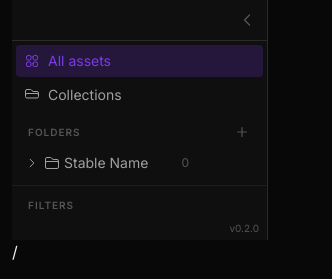
MainSidebar integration › pressing Escape during rename restores original name without PATCH
Step 1. Double-click the text "Stable Name" → point(106, 162), box [64,154,148,171]
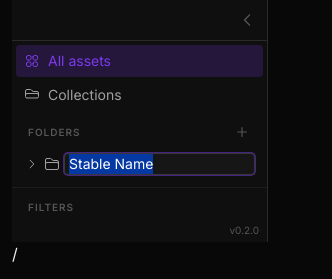
Check: the field showing "Stable Name" is shown
Step 2. Replace the text in the field showing "Stable Name" with "Changed" → point(160, 164), box [64,153,255,175]
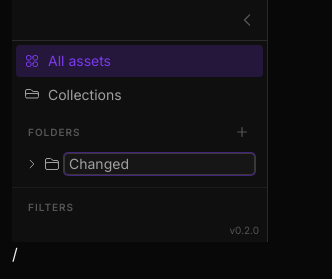
Step 3. Press Escape in the field showing "Stable Name", box [64,153,255,175]
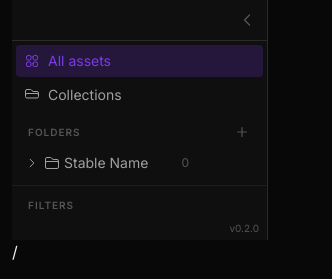
Check: the text "Stable Name" is shown, box [64,154,148,171]
